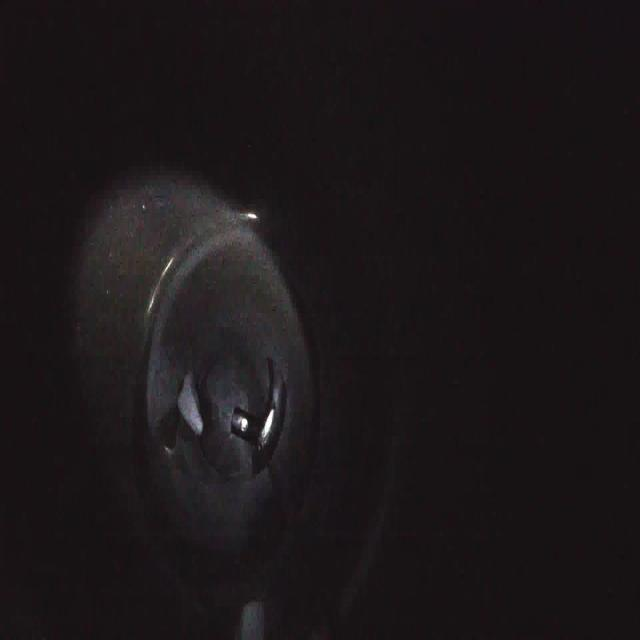impurity: (173, 364, 210, 440)
